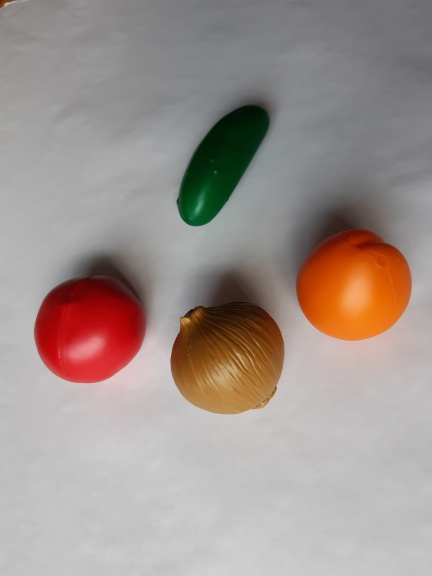apricot: (293, 222, 416, 347)
cucumber: (169, 95, 274, 230)
onion: (164, 292, 291, 428)
tomato: (26, 269, 154, 388)
